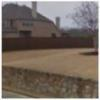chimneys: (54, 15, 62, 33), (32, 2, 38, 21)
